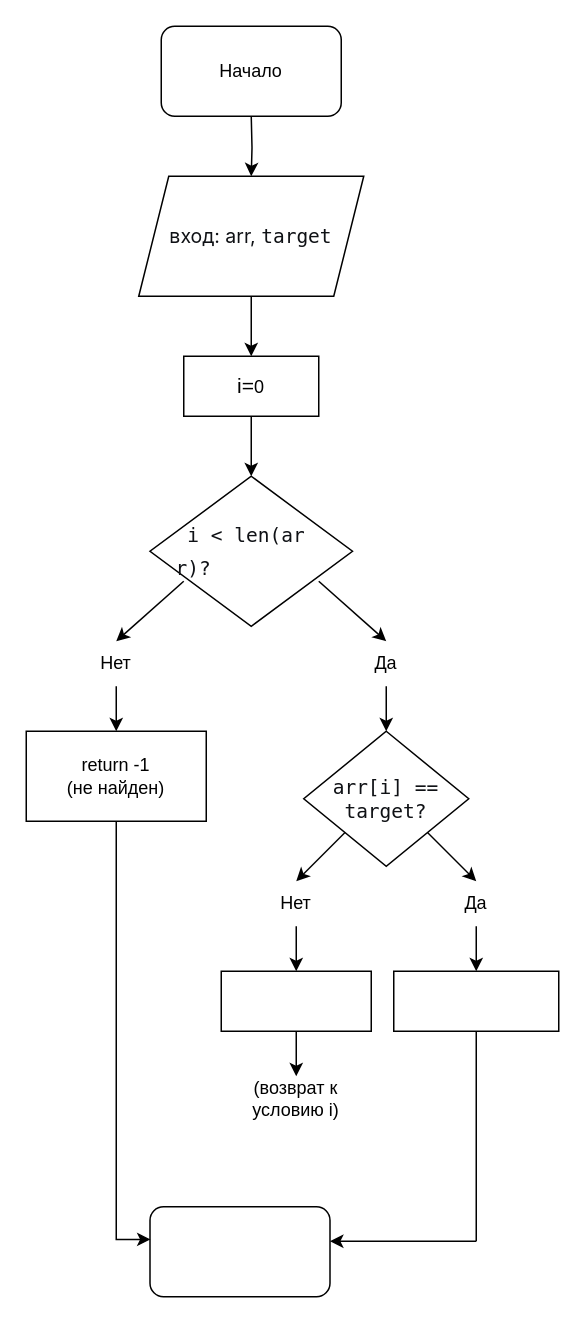
This 585x1323 diagram has some shape labels left out. The shapes that lost their labels are listed below. From the top down, each one's centre as x and y in pixels, then its label:
pixel 295 1000: i = i + 1
pixel 475 1000: return i (найден)
pixel 239 1251: Конец
